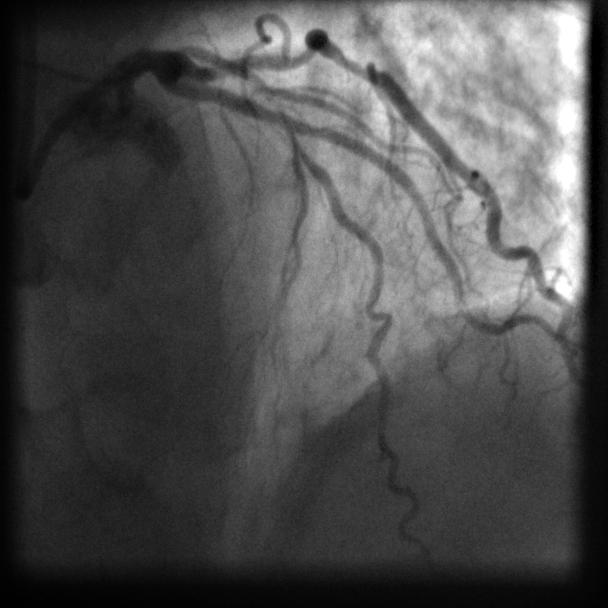Stenosis: (257, 78, 292, 135)
